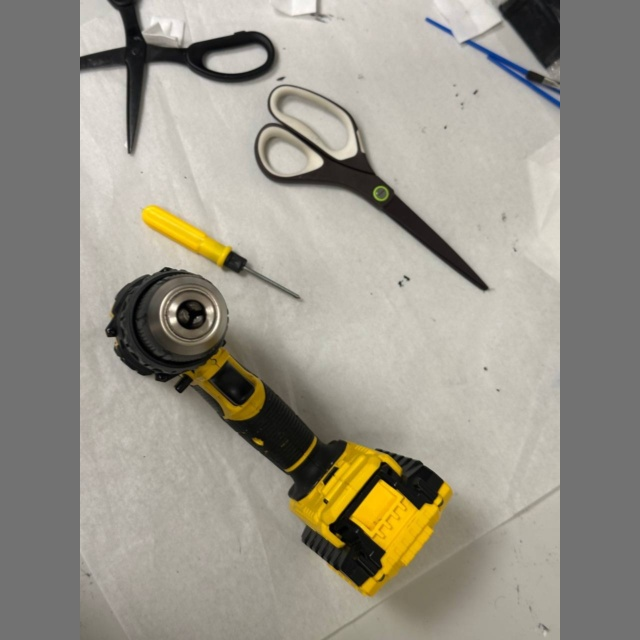drill: (106, 268, 452, 595)
scissor: (255, 85, 487, 290), (80, 0, 275, 154)
screwdriver: (142, 205, 300, 300)
